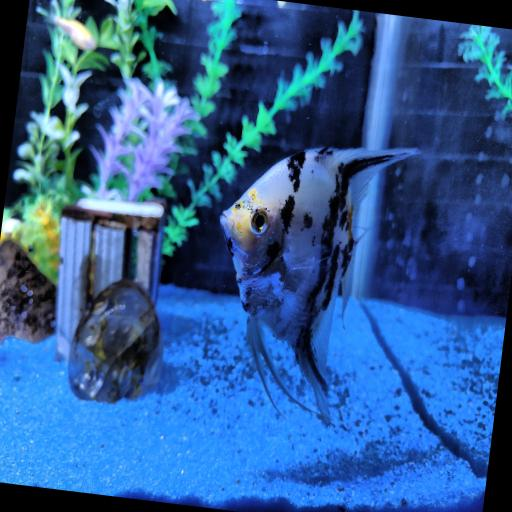Fish: (220, 148, 415, 420), (49, 16, 96, 50)
